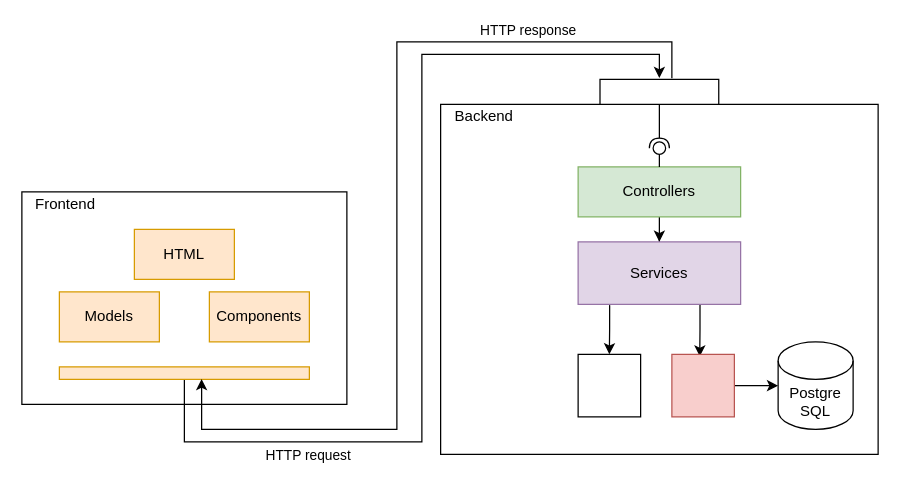
Image size: 900x484. Some labels were removed from this diagram. The shapes that lost their labels are listed below. From the top down, each one's centre as x and y in pixels, then its label:
point (659, 91): API REST
point (609, 385): Entities
point (702, 385): DAOs
